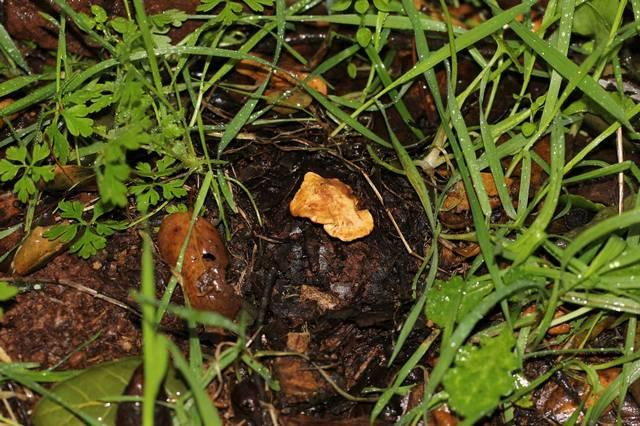edible_mushroom: (156, 209, 242, 338), (285, 164, 383, 251)
